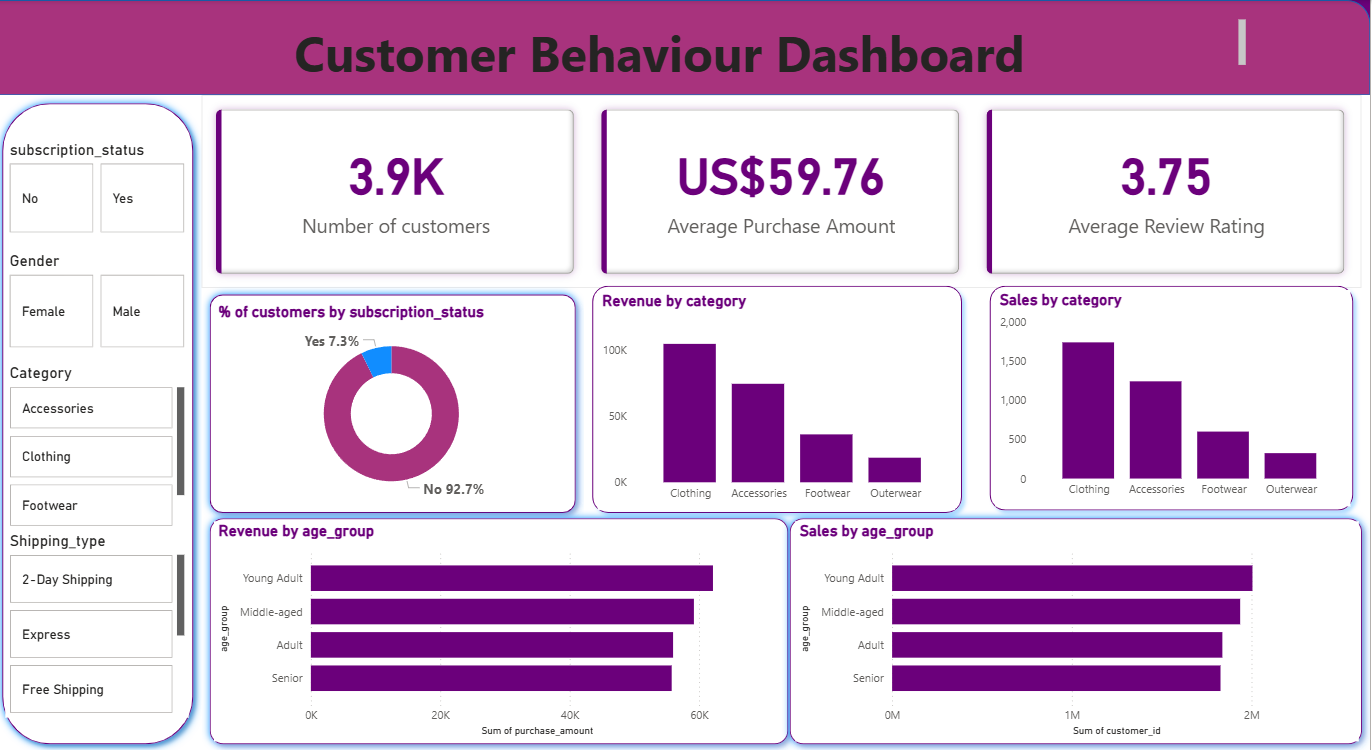

The page's visual inventory and layout, read from the dashboard file:
{"tool":"powerbi","page":{"name":"Page 1","canvas":[1500,820],"ordinal":0},"visuals":[{"type":"cardVisual","fields":{"Data":["public customer.Number of customers","public customer.Average Purchase Amount","public customer.Average Review Rating"]},"box":[226.2,103.6,1264.5,211.2],"z":0},{"type":"shape","box":[0,0,1500.3,103.6],"z":1000},{"type":"textbox","box":[88.6,16.4,1280.9,69.5],"z":2000},{"type":"shape","box":[226.2,312,417,256.2],"z":3000},{"type":"donutChart","title":" % of customers by subscription_status","fields":{"Category":["public customer.subscription_status"],"Y":["Sum(public customer.customer_id)"]},"box":[239.8,329.8,387,222.1],"z":4000},{"type":"shape","box":[643.2,302.5,421.1,265.7],"z":4001},{"type":"shape","box":[1076.5,302.5,414.2,263],"z":4002},{"type":"clusteredColumnChart","title":"Revenue by category","fields":{"Y":["Sum(public customer.purchase_amount)"],"Category":["public customer.category"]},"box":[658.2,317.5,389.7,238.5],"z":4003},{"type":"clusteredColumnChart","title":"Sales by category","fields":{"Y":["CountNonNull(public customer.customer_id)"],"Category":["public customer.category"]},"box":[1091.5,316.1,387,235.7],"z":4004},{"type":"shape","box":[0,103.6,226.2,716.8],"z":4005},{"type":"advancedSlicerVisual","fields":{"Values":["public customer.subscription_status"]},"box":[12.3,152.6,200.3,106.3],"z":4006},{"type":"advancedSlicerVisual","fields":{"Values":["public customer.gender"]},"box":[12.3,273.9,200.3,110.4],"z":4007},{"type":"advancedSlicerVisual","fields":{"Values":["public customer.category"]},"box":[12.3,396.5,200.3,182.6],"z":4008},{"type":"advancedSlicerVisual","fields":{"Values":["public customer.shipping_type"]},"box":[12.3,579.1,200.3,203],"z":4009},{"type":"shape","box":[226.2,556,648.6,264.4],"z":4011},{"type":"clusteredBarChart","title":"Revenue by age_group","fields":{"Y":["Sum(public customer.purchase_amount)"],"Category":["public customer.age_group"]},"box":[239.8,568.2,614.6,239.8],"z":4012},{"type":"shape","box":[858.5,556,641.8,264.4],"z":4013},{"type":"clusteredBarChart","title":"Sales by age_group","fields":{"Y":["Sum(public customer.customer_id)"],"Category":["public customer.age_group"]},"box":[873.5,568.2,614.6,239.8],"z":4014}]}

Visuals, with their boxes in screenshot pixels (x1, y1, x2, y2), scaled from the page's 1500x820 canvas onto the 1372x750 screenshot:
cardVisual - public customer.Number of customers x public customer.Average Purchase Amount: rect(207, 95, 1363, 288)
shape: rect(0, 0, 1371, 95)
textbox: rect(81, 15, 1253, 79)
shape: rect(207, 285, 588, 520)
" % of customers by subscription_status" donutChart: rect(219, 302, 573, 505)
shape: rect(588, 277, 973, 520)
shape: rect(985, 277, 1363, 517)
"Revenue by category" clusteredColumnChart: rect(602, 290, 958, 509)
"Sales by category" clusteredColumnChart: rect(998, 289, 1352, 505)
shape: rect(0, 95, 207, 749)
advancedSlicerVisual - public customer.subscription_status: rect(11, 140, 194, 237)
advancedSlicerVisual - public customer.gender: rect(11, 251, 194, 351)
advancedSlicerVisual - public customer.category: rect(11, 363, 194, 530)
advancedSlicerVisual - public customer.shipping_type: rect(11, 530, 194, 715)
shape: rect(207, 509, 800, 749)
"Revenue by age_group" clusteredBarChart: rect(219, 520, 781, 739)
shape: rect(785, 509, 1371, 749)
"Sales by age_group" clusteredBarChart: rect(799, 520, 1361, 739)
